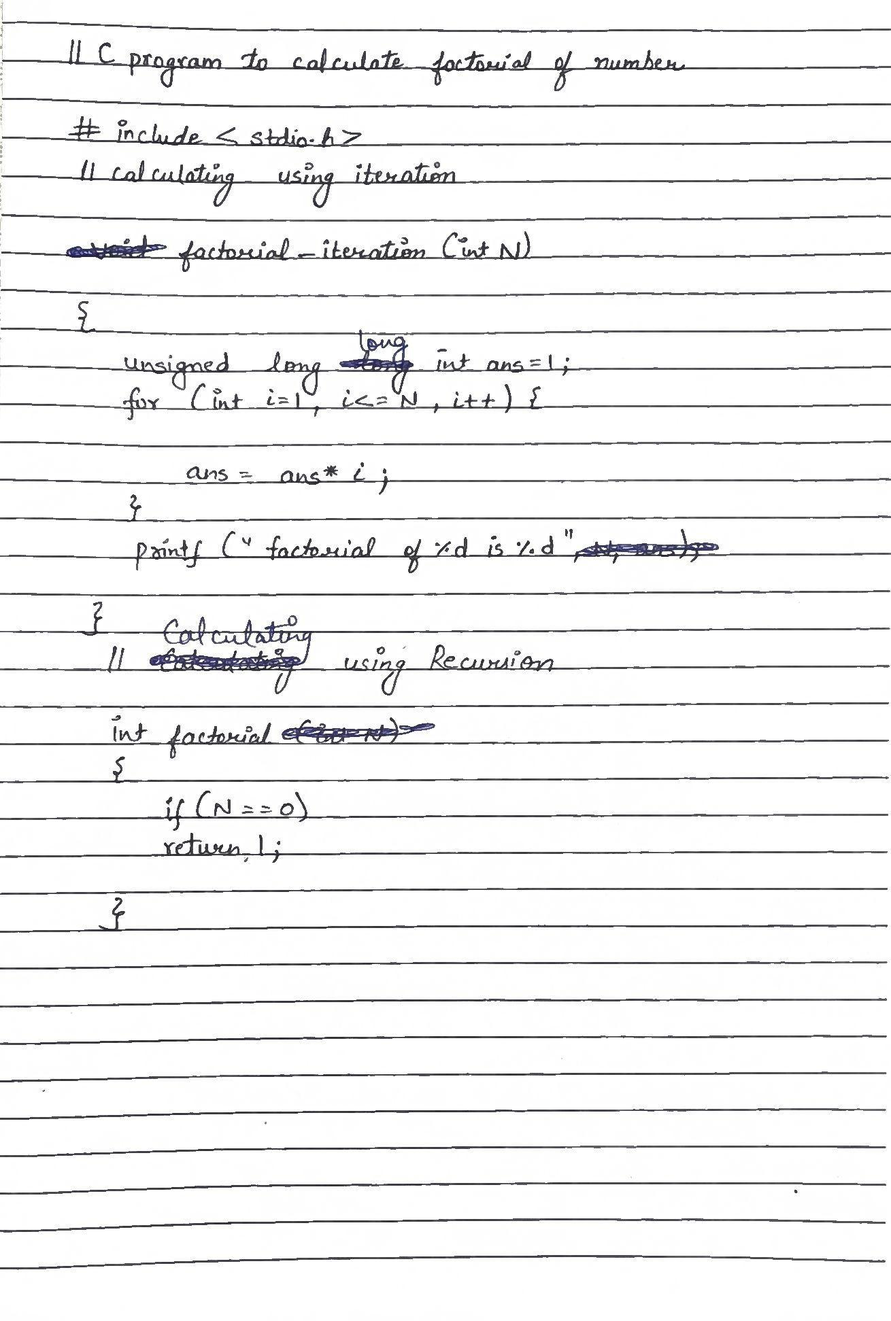cuttings: (147, 647, 304, 697), (281, 716, 441, 746), (573, 539, 722, 566), (335, 352, 413, 397), (64, 231, 169, 260)
